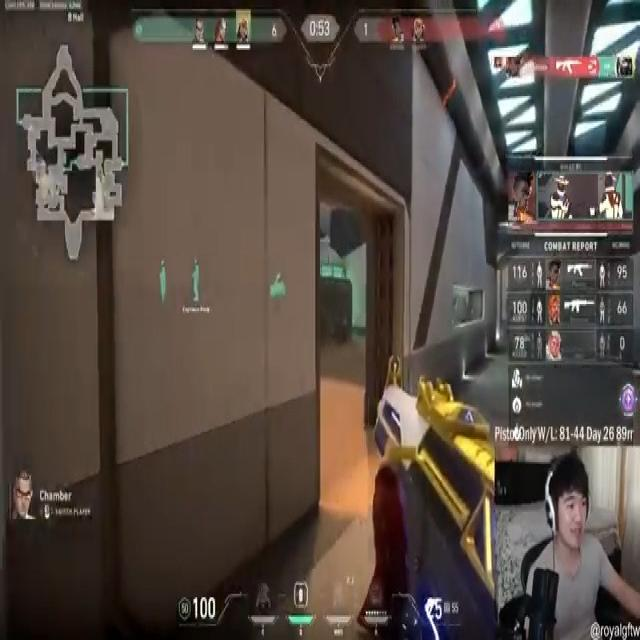ally behind wall: (192, 261, 203, 313), (158, 263, 168, 303)
